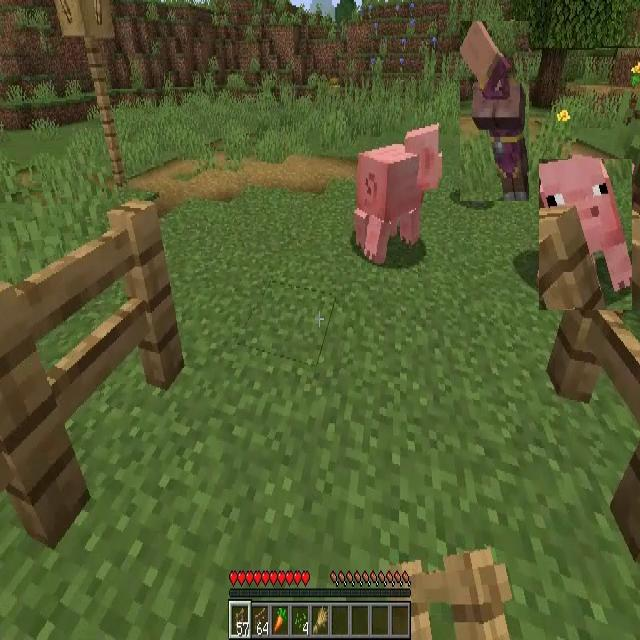flower: (556, 108, 570, 128)
people: (460, 21, 529, 201)
pig: (539, 159, 632, 310), (354, 122, 442, 261)
